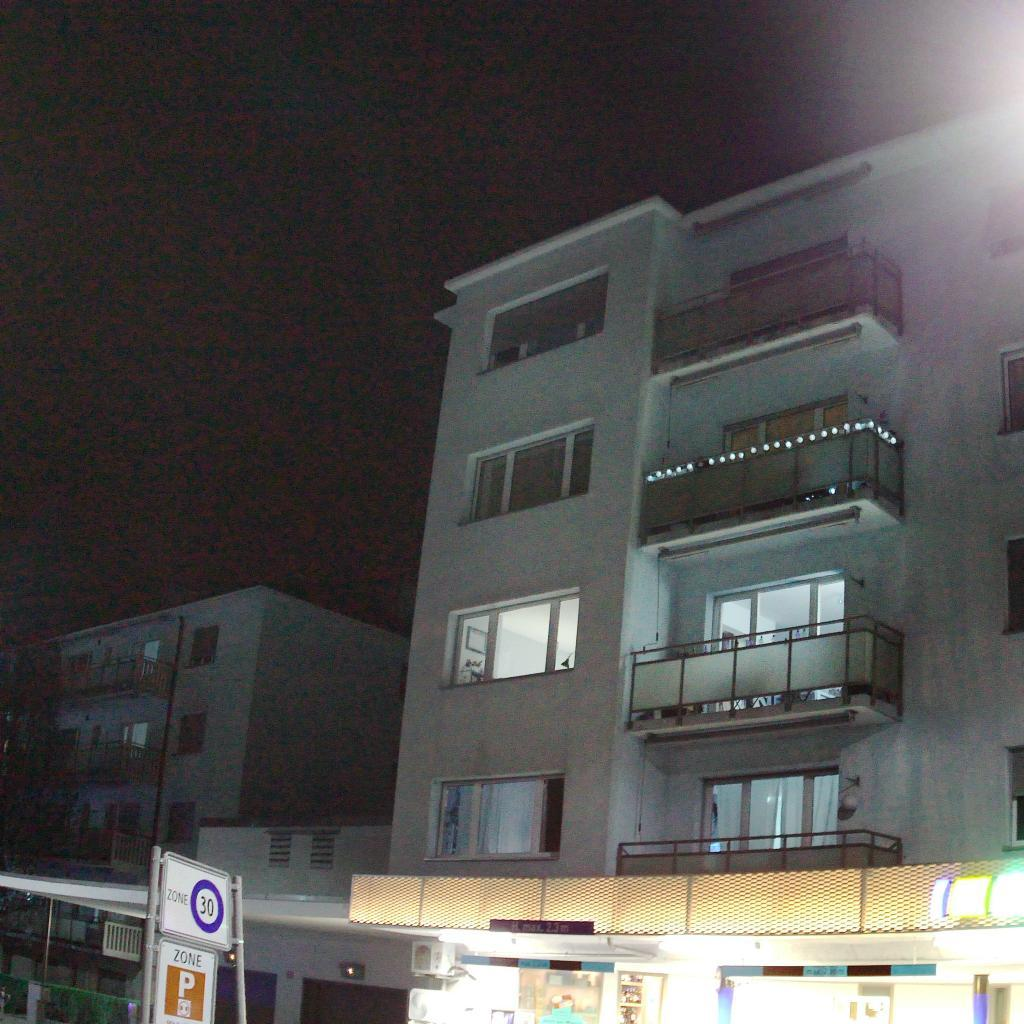balcony-fence: (636, 415, 906, 547), (650, 239, 903, 376), (623, 613, 907, 732), (613, 828, 903, 873)
facade: (387, 90, 1024, 874)
shop: (347, 855, 1024, 1024)
traffic-infrastructure: (138, 844, 249, 1024)
window: (707, 572, 845, 714), (729, 234, 848, 343), (487, 271, 608, 371), (470, 424, 592, 523), (450, 592, 579, 685), (433, 772, 565, 858), (707, 773, 839, 853), (730, 393, 848, 452), (1005, 746, 1024, 846), (1005, 538, 1024, 635), (1004, 351, 1024, 432)
